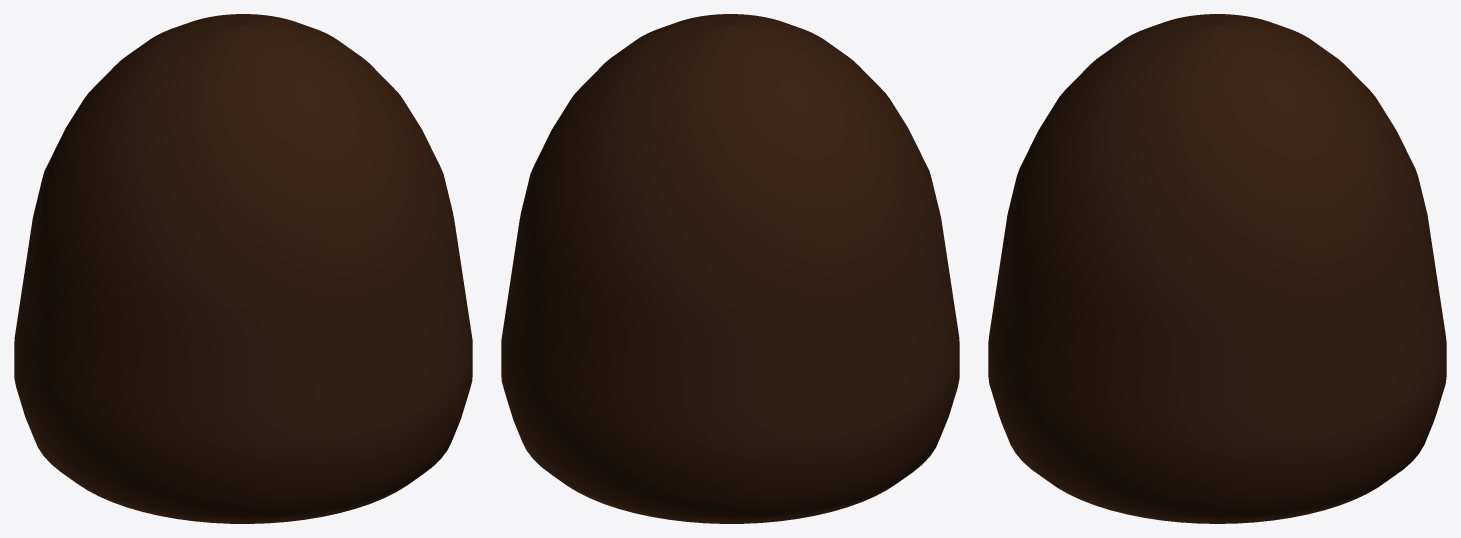
The model's file is bob-hair.glb.
The picture shows the model from 3 angles, left to right: view 1: azimuth 30°, elevation 25°; view 2: azimuth 150°, elevation 25°; view 3: azimuth 270°, elevation 25°; orthographic projection.
Bounding box in the file's own units: 0.56 × 0.5752 × 0.56.
